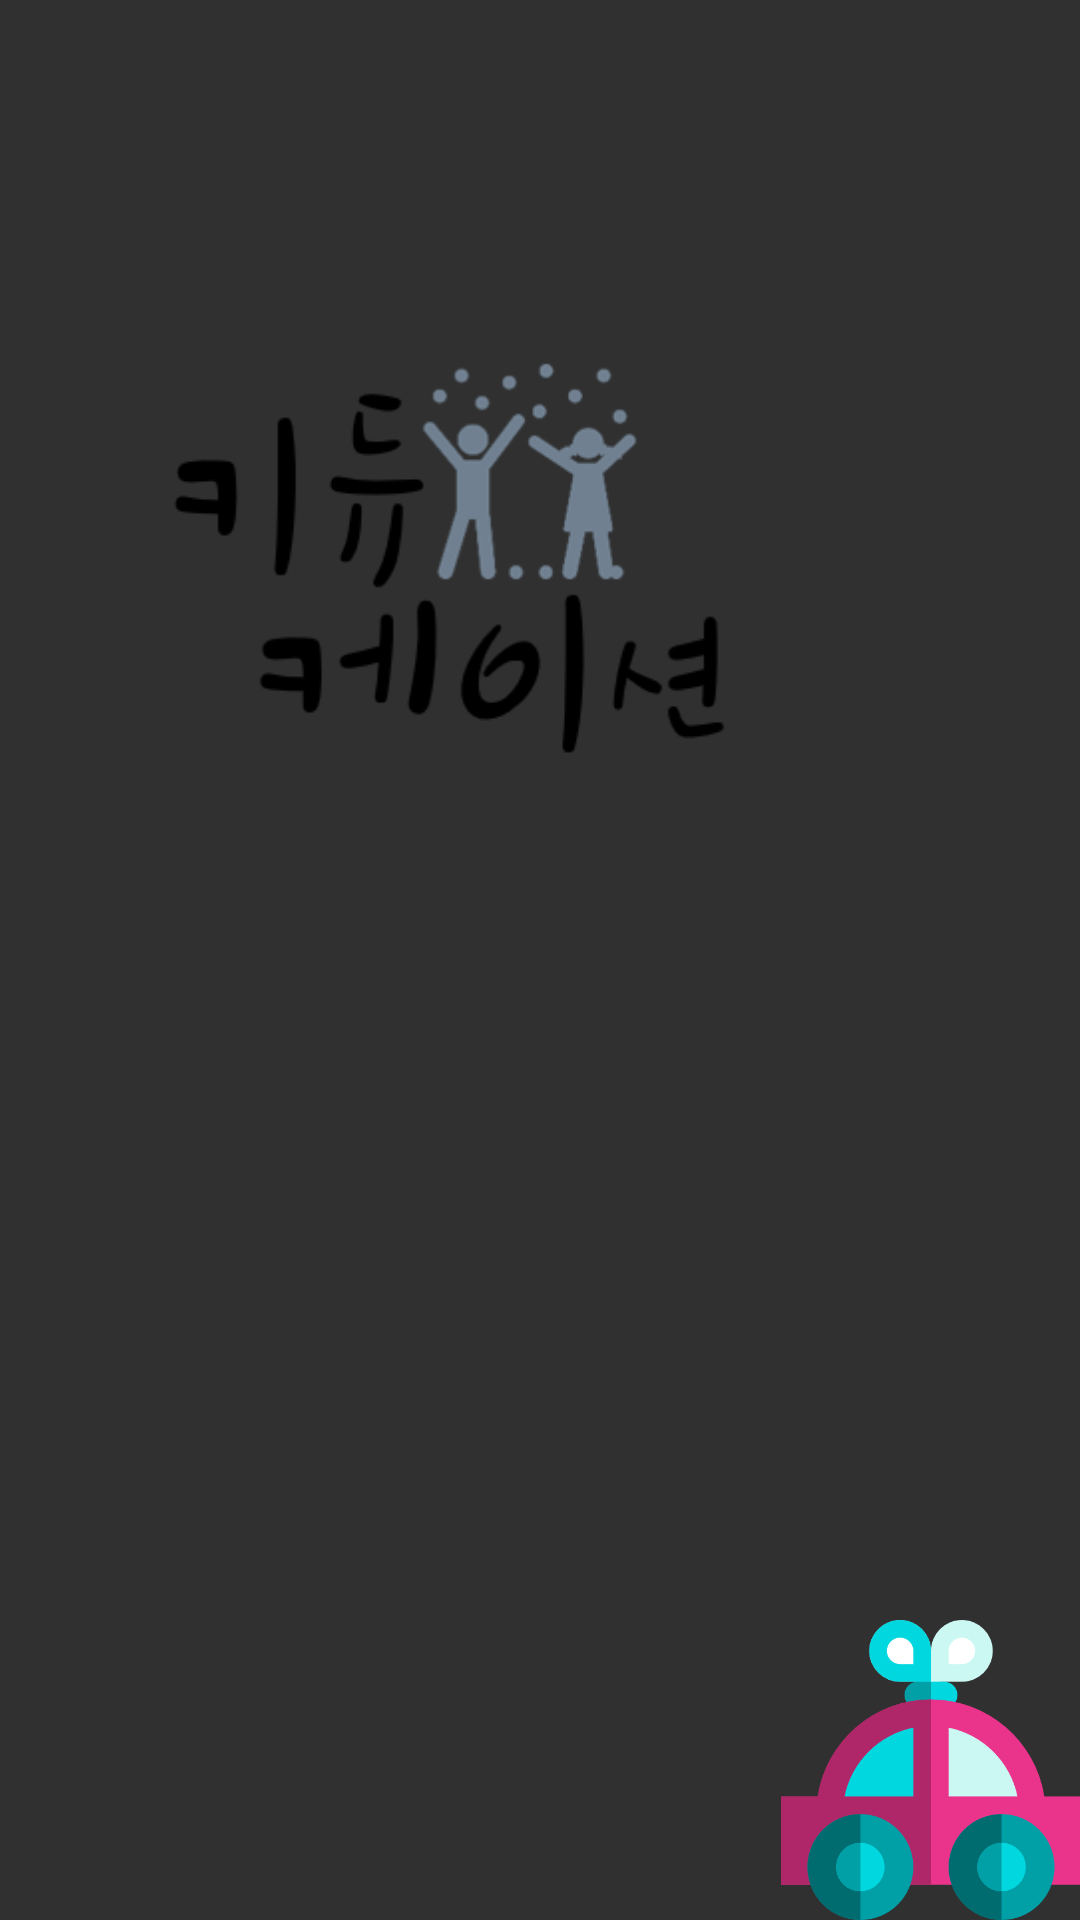

Locate icon controls on the screen. Image size 1080 x 1920, boxes as [left=x1, top=y1, right=x2, bottom=y2].
car: [left=781, top=1620, right=1080, bottom=1920]
